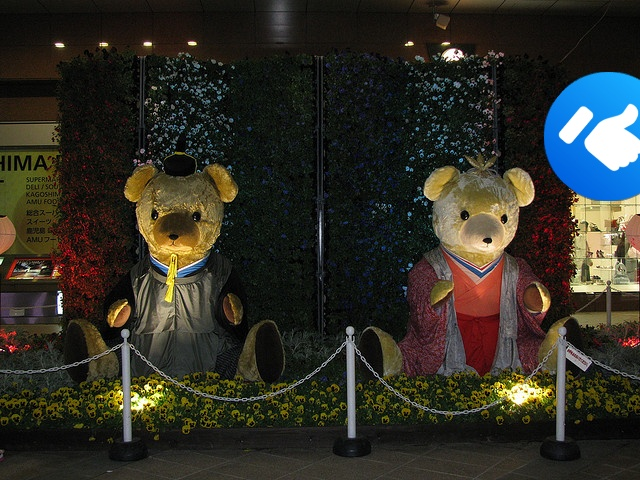like: (544, 72, 640, 201)
